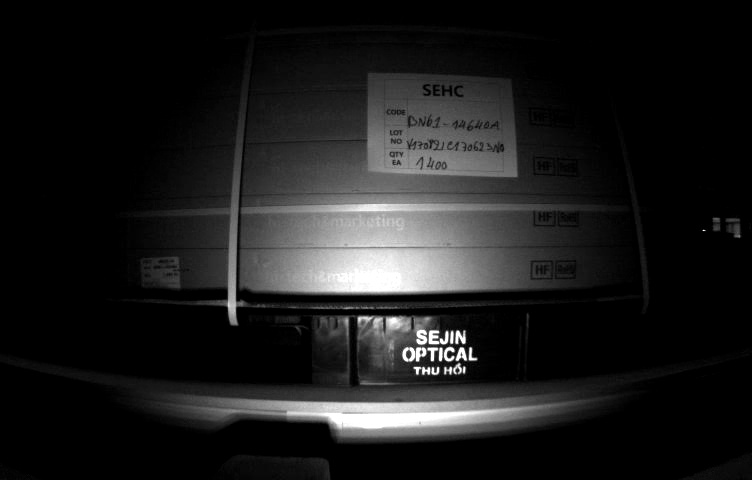True Barcode: (139, 258, 182, 292)
